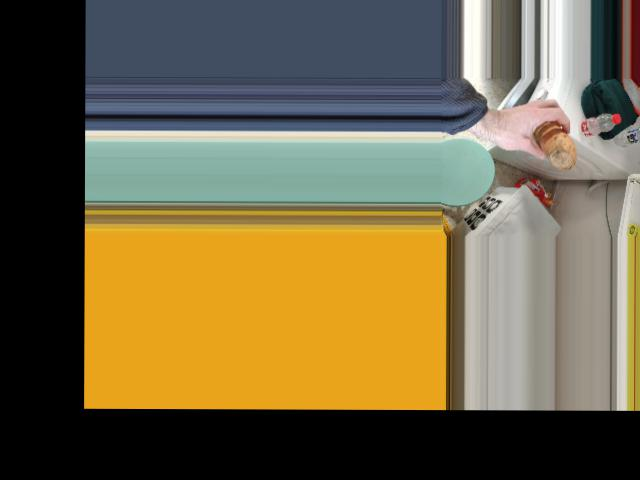sweet_potato: (534, 124, 579, 168)
